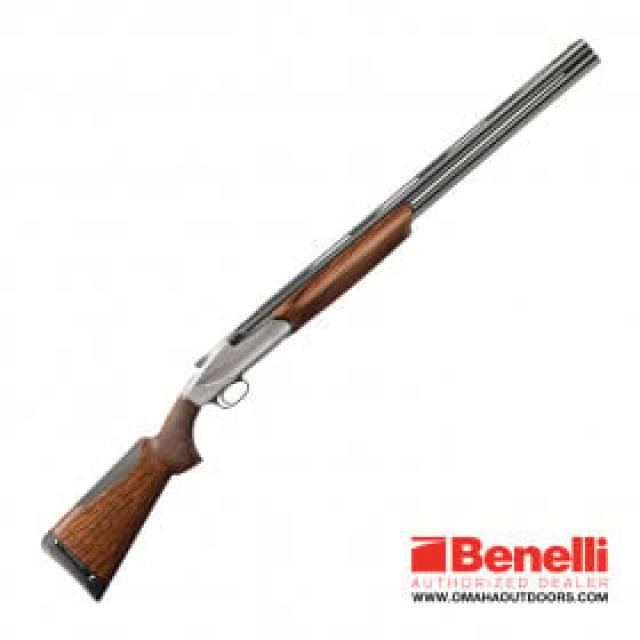ShotGun: (41, 39, 599, 601)
